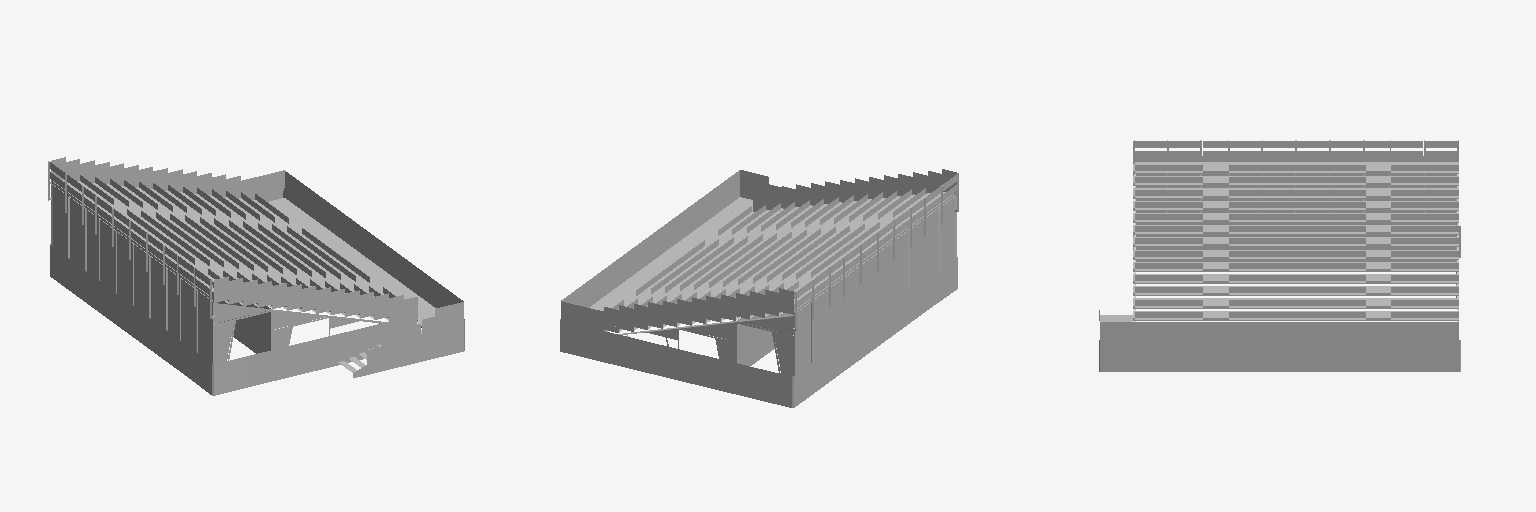
Rendered from grand_stand_eastwest.obj.
3 renders of one model, left to right at view 1: azimuth 30°, elevation 25°; view 2: azimuth 150°, elevation 25°; view 3: azimuth 270°, elevation 25°, orthographic.
Visible parts, largest first — view 1: Node_013_mel_grandstand_genericmedium_a_physics_!bk; view 2: Node_013_mel_grandstand_genericmedium_a_physics_!bk; view 3: Node_013_mel_grandstand_genericmedium_a_physics_!bk.
Part boxes in pixels (left/top/right/bottom): Node_013_mel_grandstand_genericmedium_a_physics_!bk: left=48, top=157, right=464, bottom=395; Node_013_mel_grandstand_genericmedium_a_physics_!bk: left=560, top=169, right=958, bottom=407; Node_013_mel_grandstand_genericmedium_a_physics_!bk: left=1099, top=140, right=1460, bottom=371.
Bounding box in the file's own units: 17.87 × 8.38 × 23.67.